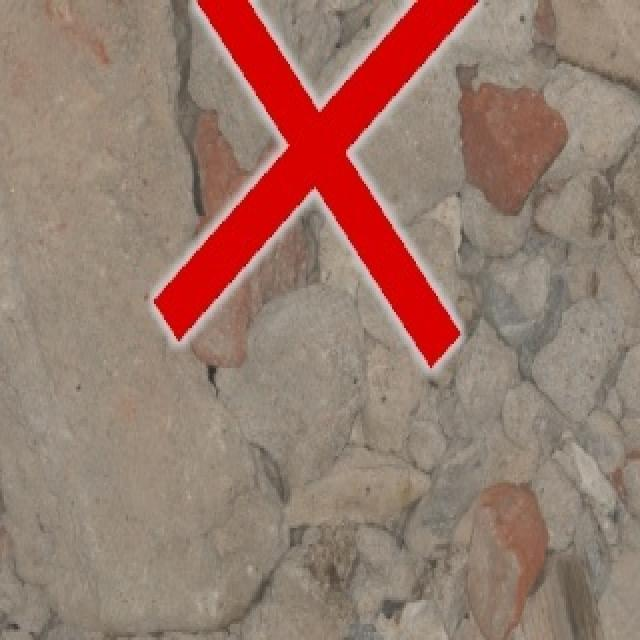x_marker: (153, 0, 477, 368)
